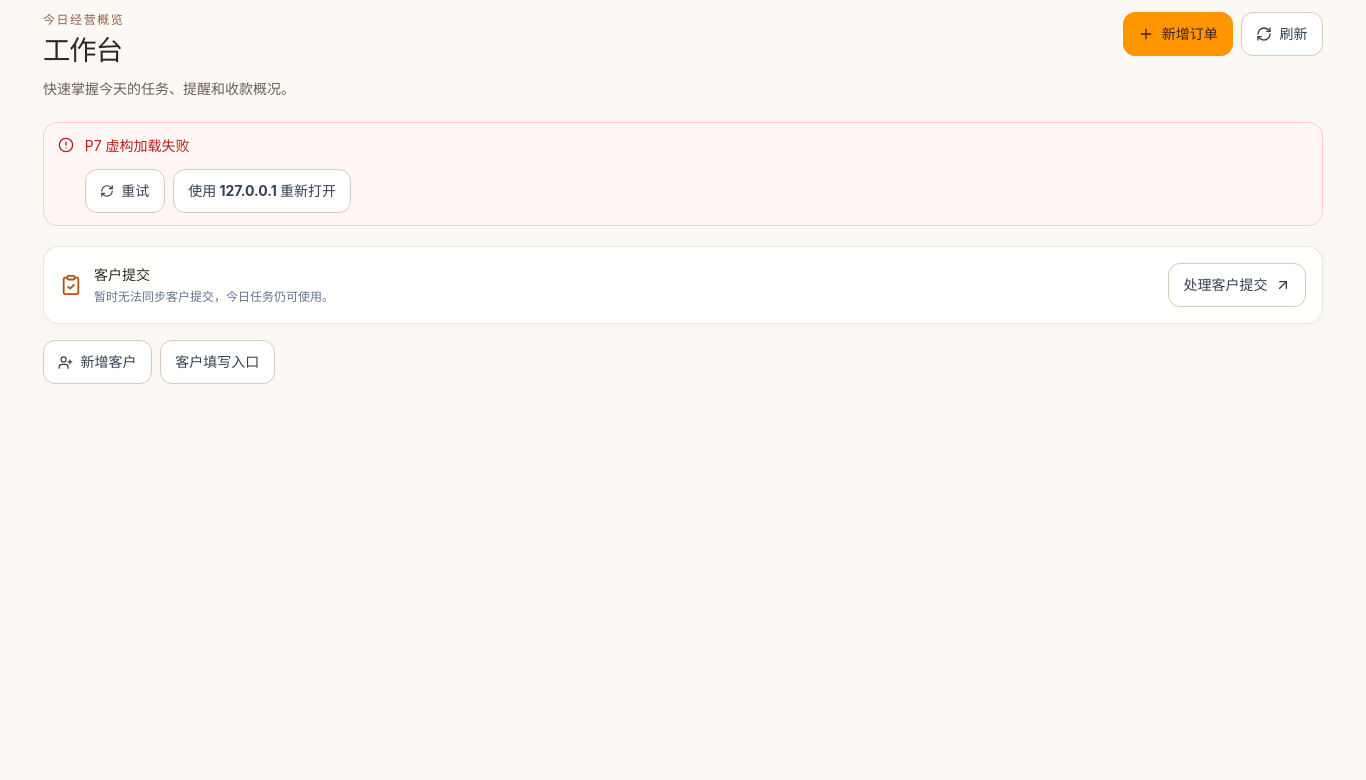
recovers from an API error and shows clean empty states
Expected: the message "P7 虚构加载失败 重试 使用 127.0.0.1 重新打开" is shown, [43,122,1323,226]
Click the button "重试" at (125, 191), box [85,169,165,213]
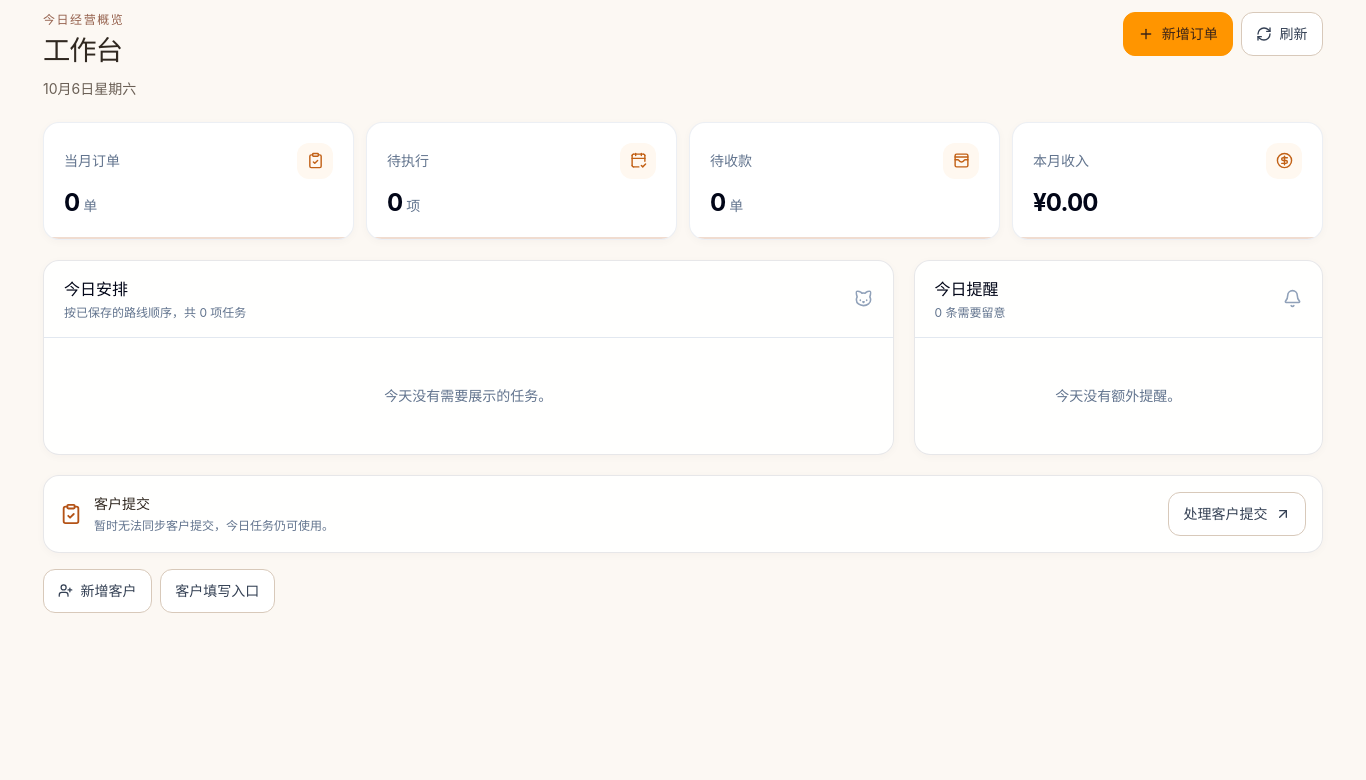
Now the text "今天没有需要展示的任务。" is shown, box [384,387,552,404]
Now the text "今天没有额外提醒。" is shown, box [1055,387,1181,404]
